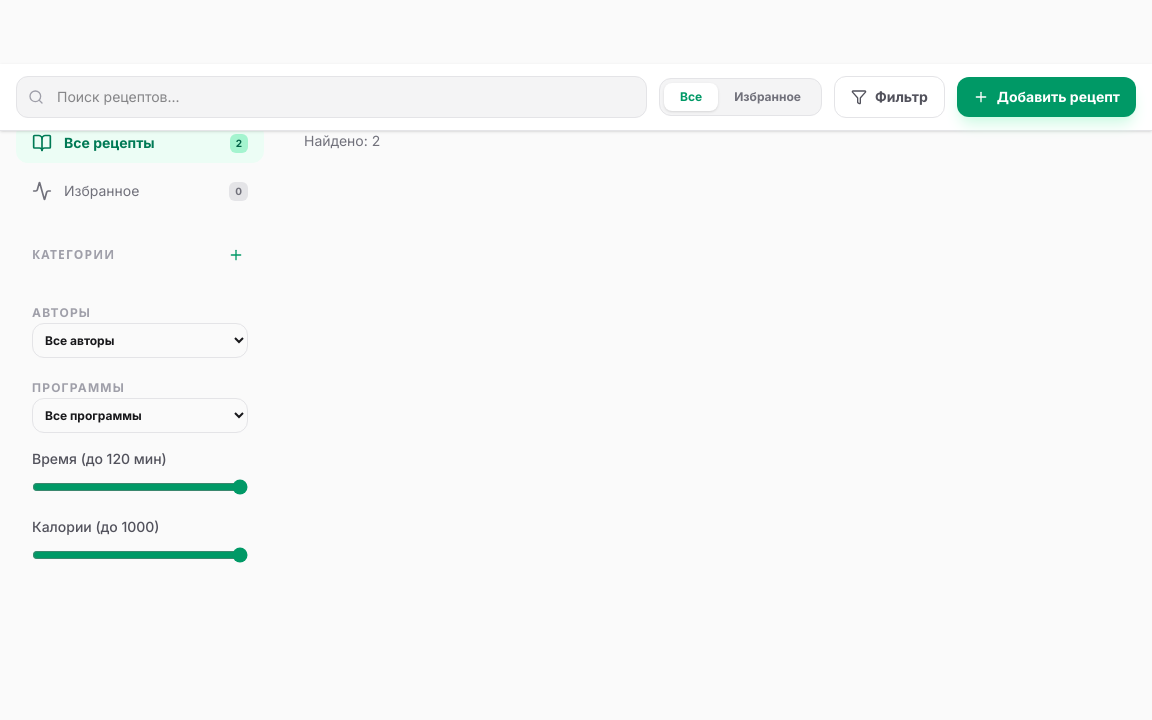
Scenario: RecipesView › hides the non-matching recipe when searching
The width and height of the screenshot is (1152, 720).
Type "Овсянка" into the field with placeholder "Поиск рецептов...".
click(332, 97); type("Овсянка")  # box top-left (16, 76), bottom-right (647, 118)
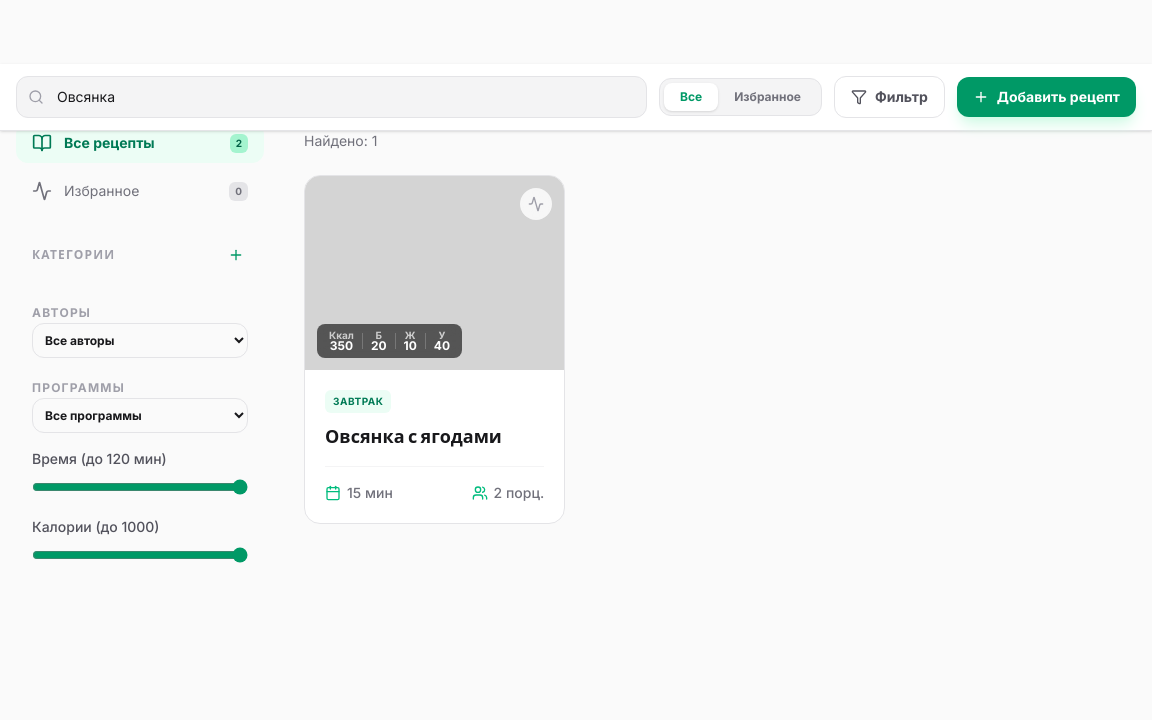
Now the heading "Овсянка с ягодами" is shown, box top-left (325, 426), bottom-right (502, 448)
